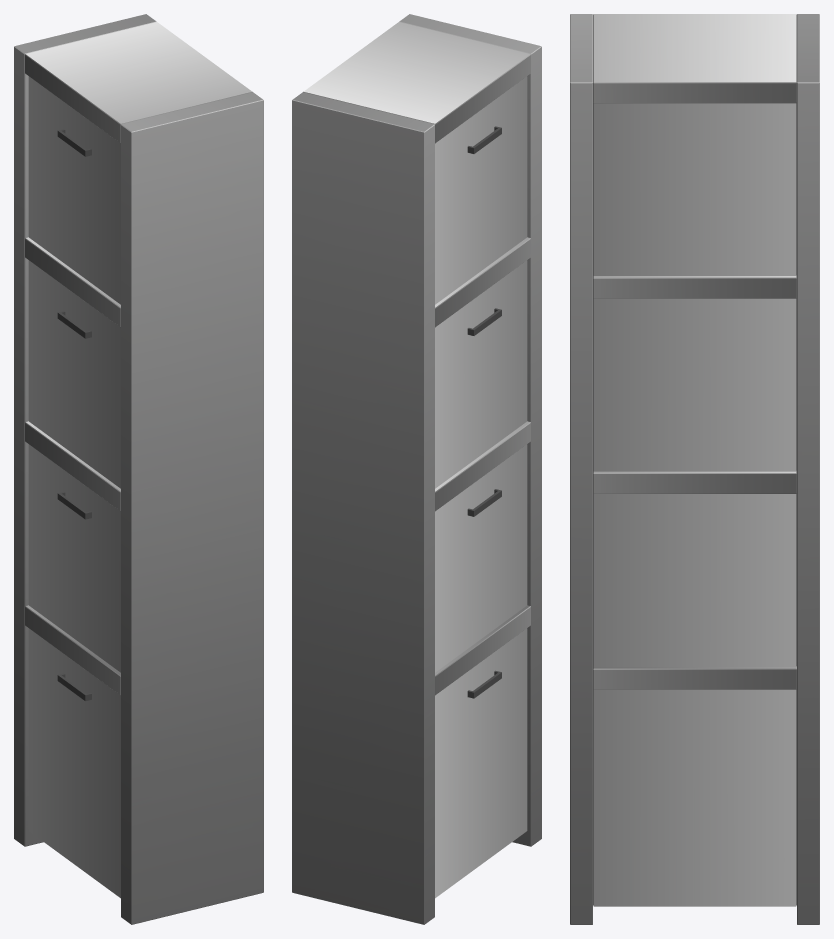
The model's file is CabinetA.fbx.
The picture shows the model from 3 angles, left to right: view 1: azimuth 30°, elevation 25°; view 2: azimuth 150°, elevation 25°; view 3: azimuth 270°, elevation 25°; orthographic projection. The views are drawn at different scales.
Visible parts, largest first — view 1: CabinetA; view 2: CabinetA; view 3: CabinetA.
Part boxes in pixels (box(x1,y1,x2,y2)): CabinetA: box(14, 14, 263, 924); CabinetA: box(292, 14, 541, 924); CabinetA: box(570, 14, 819, 924).
Size of the model in its own units: 63.75 by 356 by 95.75.
Materials: 1 (1 with a texture image).
